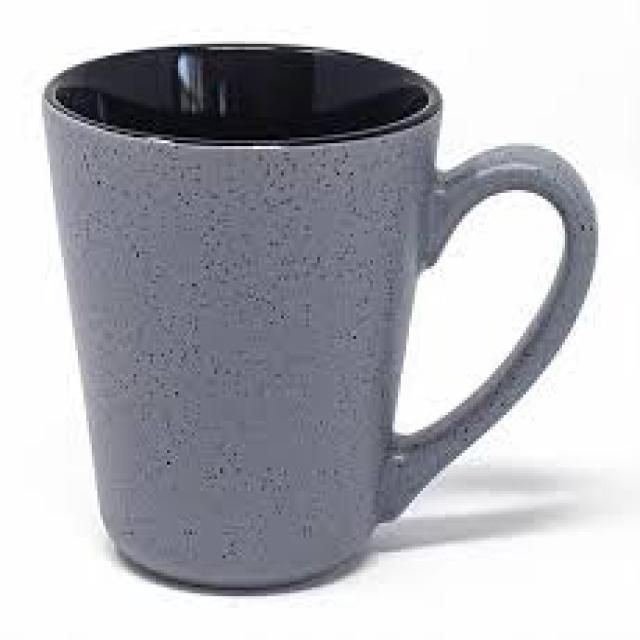taza: (41, 41, 600, 596)
